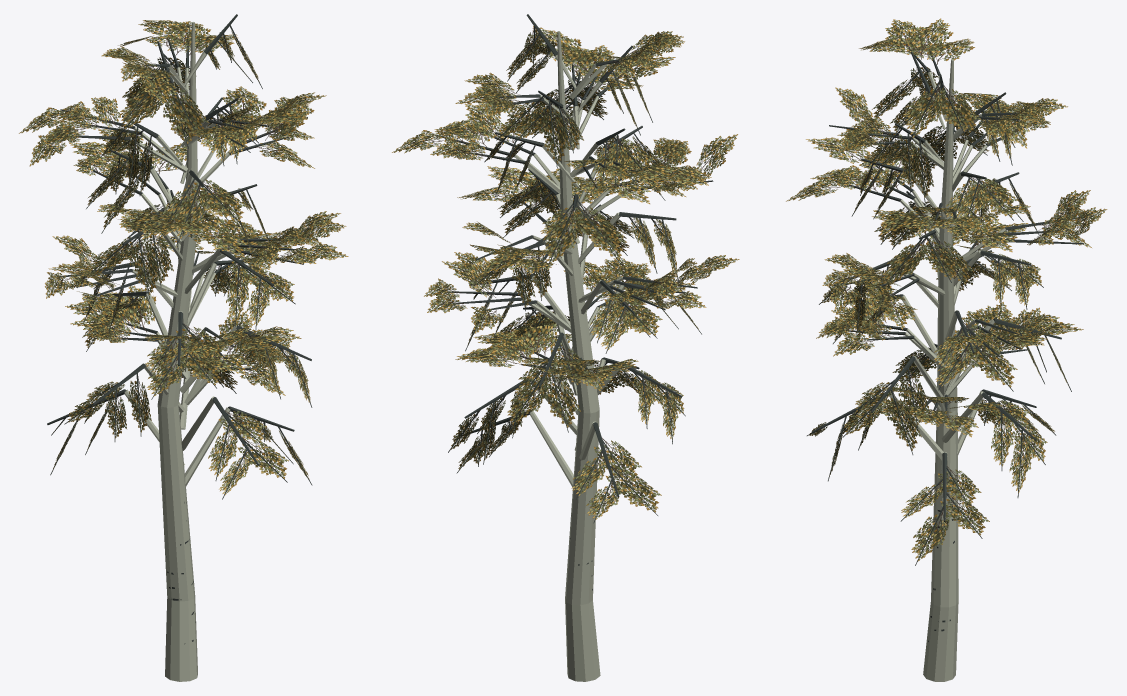
The model's file is birch.glb.
The picture shows the model from 3 angles, left to right: view 1: azimuth 30°, elevation 25°; view 2: azimuth 150°, elevation 25°; view 3: azimuth 270°, elevation 25°; orthographic projection. The views are drawn at different scales.
Parts seen in each view (by area): view 1: birch; view 2: birch; view 3: birch.
Part boxes in pixels (x1=…): birch: x1=19, y1=14, x2=348, y2=681; birch: x1=392, y1=14, x2=739, y2=681; birch: x1=786, y1=18, x2=1107, y2=681.
Bounding box in the file's own units: 0.5102 × 1.03 × 0.4965.
3 materials, 1 textured.
